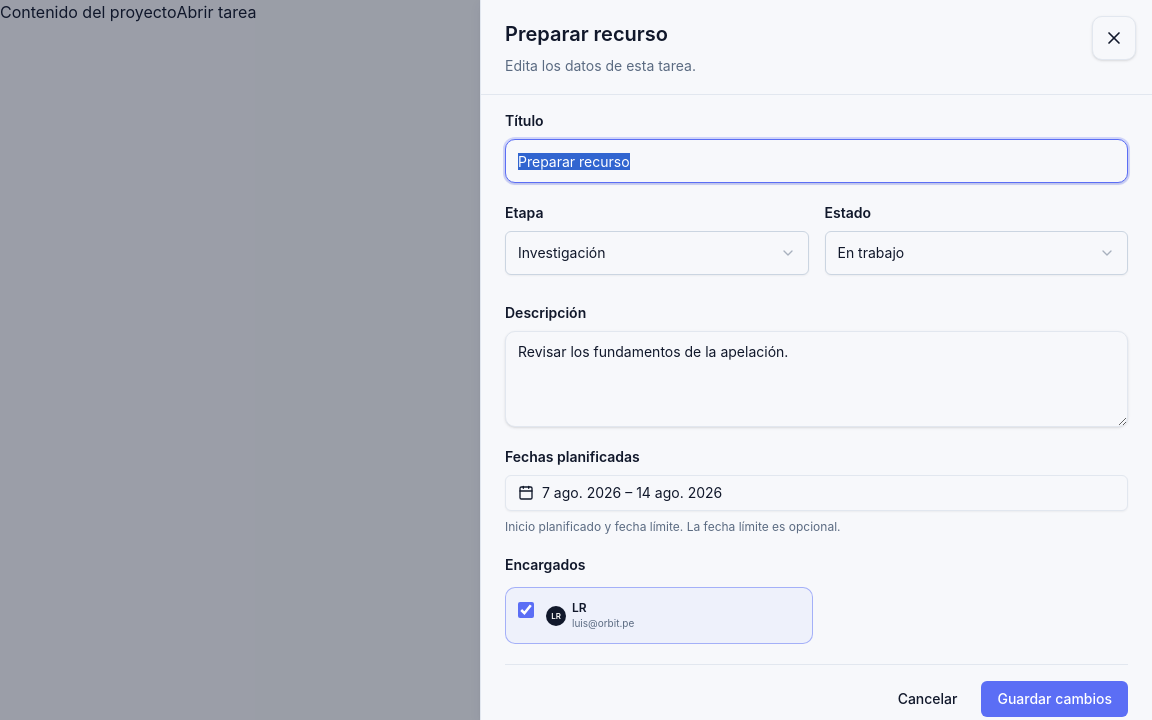
Test: ProjectTaskSheet › refreshes and shows the current task after an update conflict
Replace the text in the field labelled "Título" with "Mi edición desactualizada". click: (816, 161)
box: [505, 139, 1128, 183]
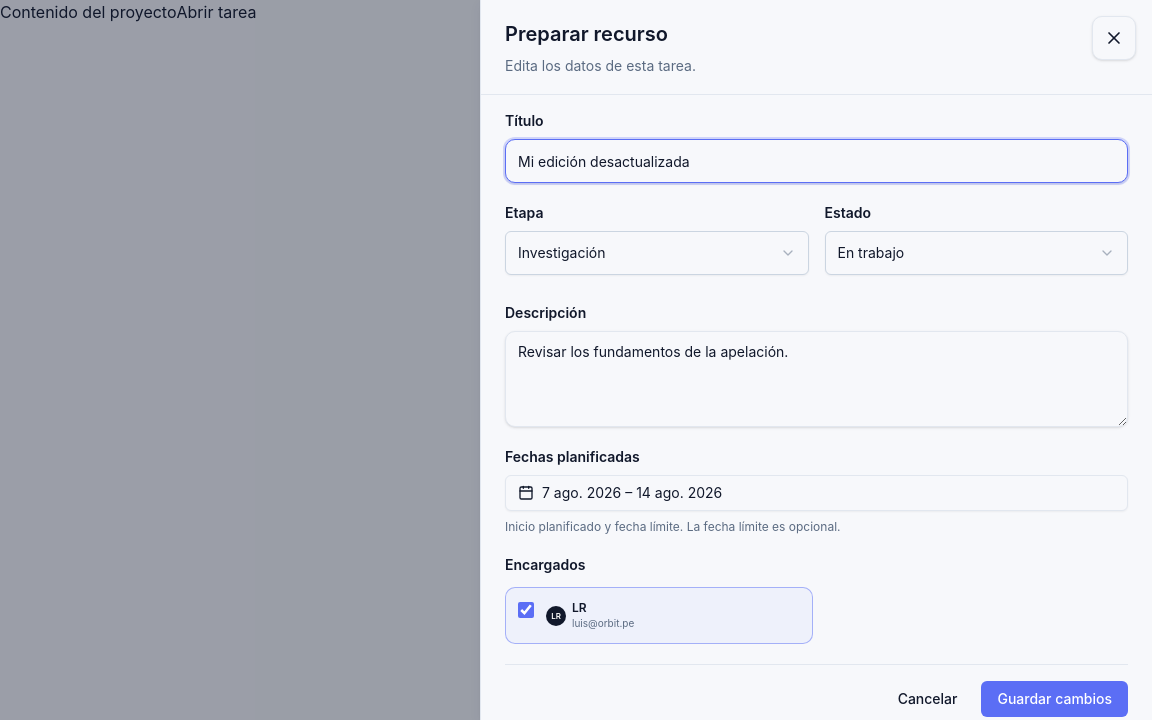
Click the button "Guardar cambios". click: (1055, 699)
box: [982, 681, 1128, 717]
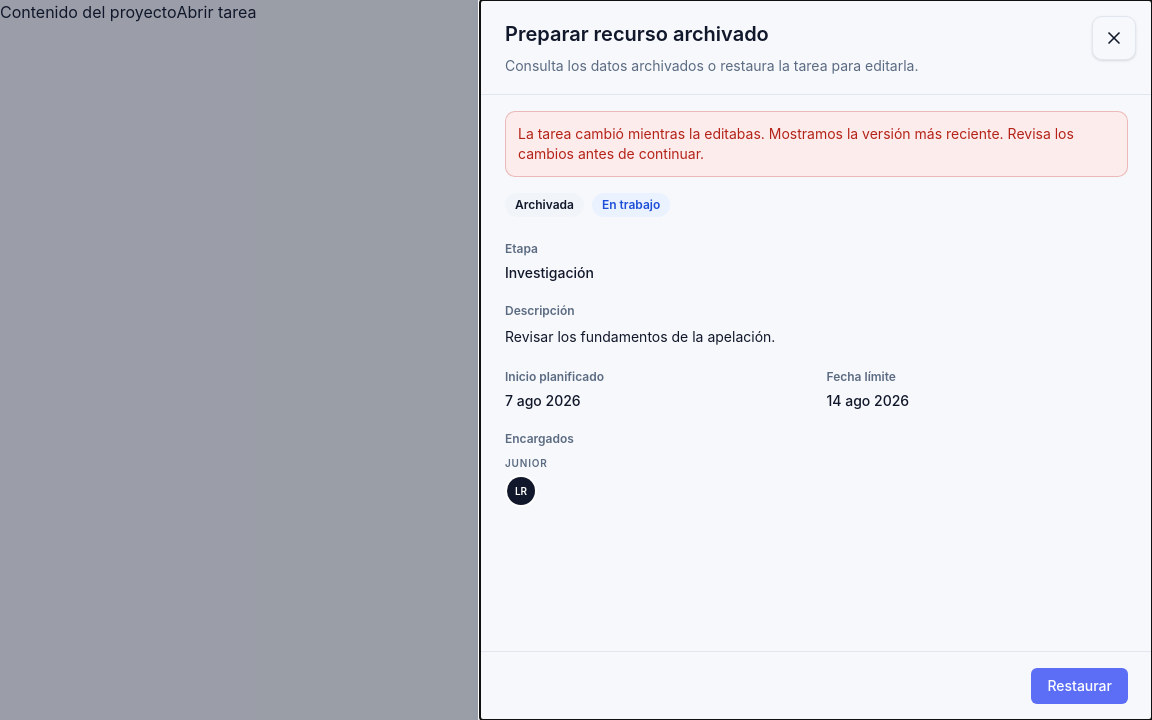
Now the message shows "La tarea cambió mientras la editabas. Mostramos la versión más reciente. Revisa los cambios antes de continuar.", box [518, 125, 1074, 162]
Now the heading "Preparar recurso archivado" is shown, box [505, 22, 769, 46]
Now the text "Archivada" is shown, box [505, 193, 584, 217]
